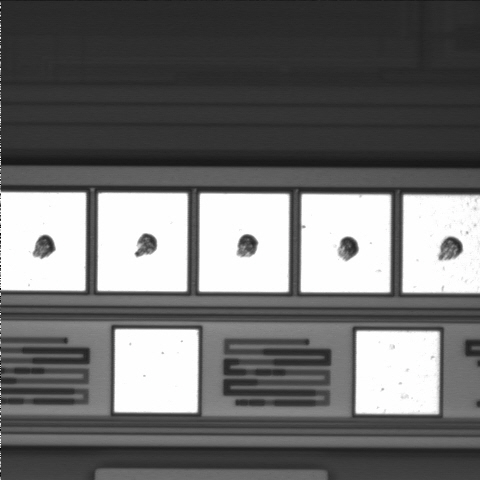pad: (199, 193, 289, 292), (98, 193, 188, 291), (301, 194, 391, 292), (114, 329, 198, 413), (356, 331, 439, 414)
